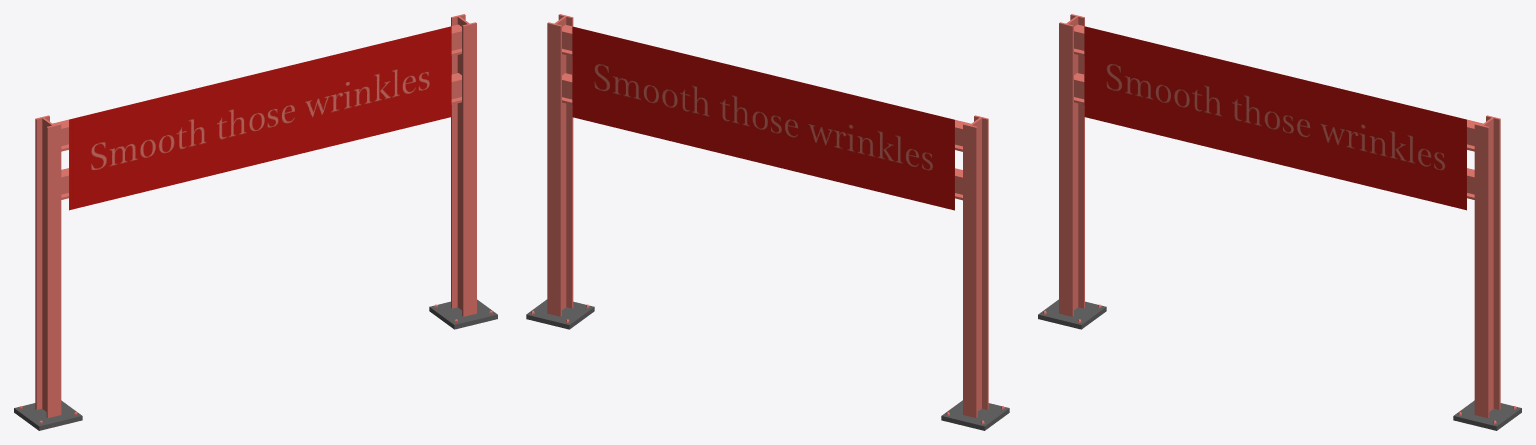
File: New_Arc_SMOTH.glb
3 renders of one model, left to right at view 1: azimuth 30°, elevation 25°; view 2: azimuth 150°, elevation 25°; view 3: azimuth 330°, elevation 25°, orthographic.
Visible parts, largest first — view 1: Banner_, Frame_, Base_; view 2: Banner_, Frame_, Base_; view 3: Banner_, Frame_, Base_.
Part boxes in pixels (x1,y1,x2,y2): Banner_: [69, 26, 451, 210]; Frame_: [35, 14, 476, 417]; Base_: [14, 299, 497, 430]; Banner_: [572, 26, 954, 210]; Frame_: [547, 14, 988, 417]; Base_: [526, 299, 1009, 430]; Banner_: [1084, 26, 1466, 210]; Frame_: [1059, 14, 1500, 417]; Base_: [1038, 299, 1521, 430].
Size of the model in its own units: 2115 by 1305 by 200.
Materials: 3 (1 with a texture image).
